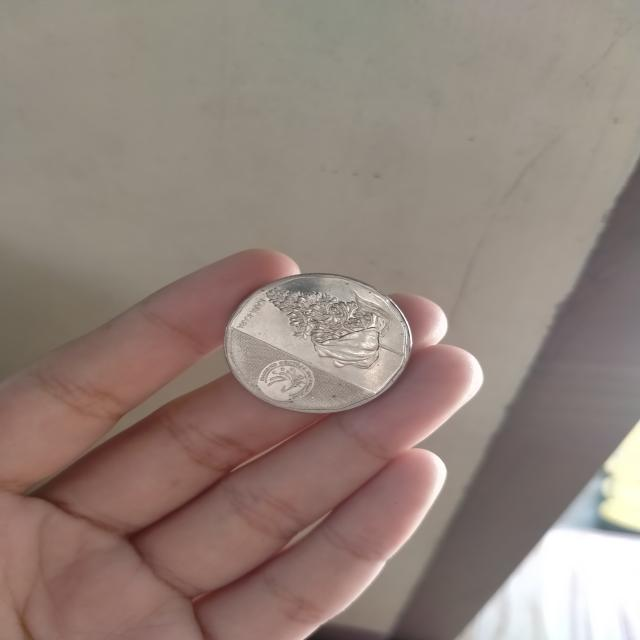10_New_Back: (253, 275, 406, 372)
